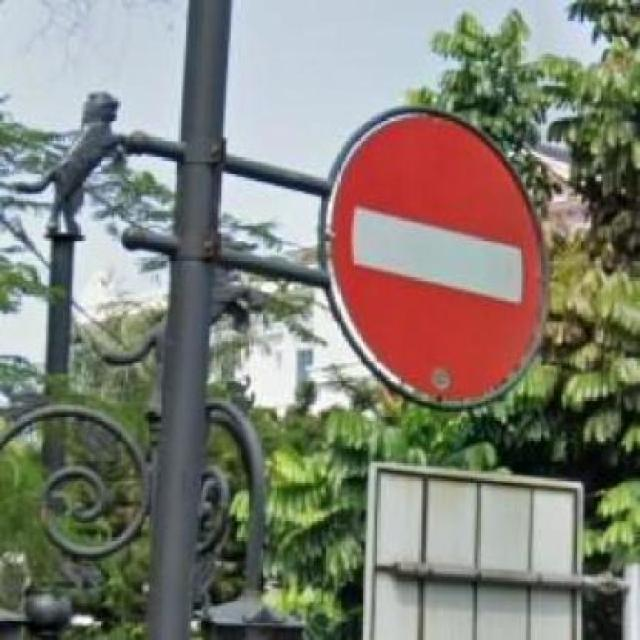no entry: (325, 102, 553, 408)
